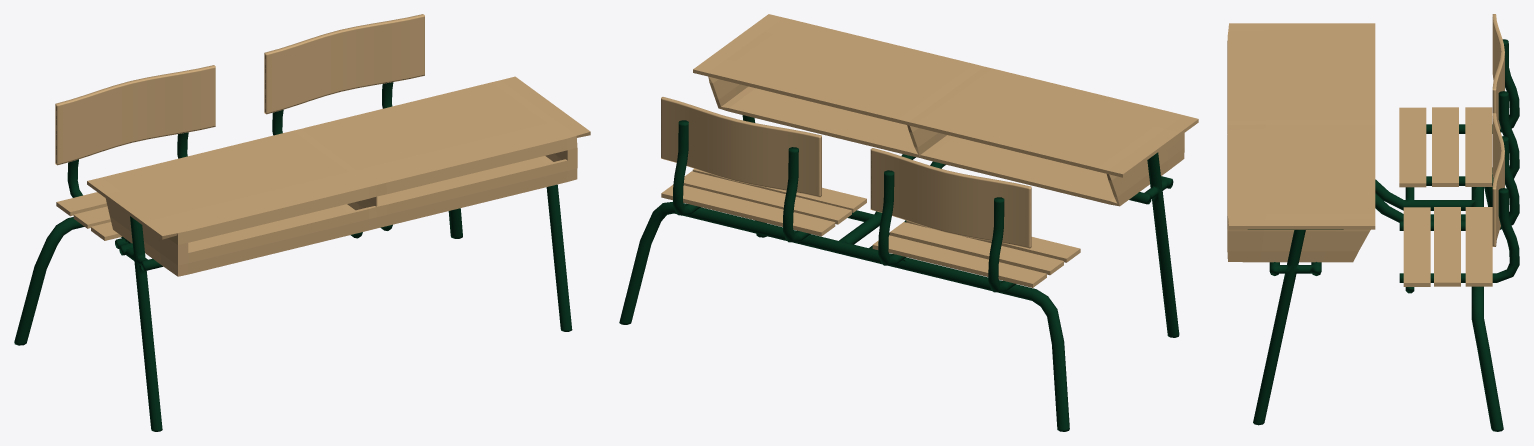
3 renders of one model, left to right at view 1: azimuth 30°, elevation 25°; view 2: azimuth 150°, elevation 25°; view 3: azimuth 270°, elevation 25°, orthographic. The views are drawn at different scales.
Visible parts, largest first — view 1: Desk, Headrest, SteelFrame, Seat; view 2: Desk, Headrest, SteelFrame, Seat; view 3: Desk, Seat, SteelFrame, Headrest.
Boxes of the visible parts, x1,y1,x2,y2 form: Desk: (87, 76, 590, 276); Headrest: (55, 14, 424, 165); SteelFrame: (14, 82, 572, 431); Seat: (56, 192, 121, 240); Desk: (693, 14, 1198, 206); Headrest: (661, 97, 1031, 248); SteelFrame: (619, 115, 1179, 431); Seat: (661, 168, 1080, 287); Desk: (1227, 23, 1375, 262); Seat: (1399, 107, 1492, 286); SteelFrame: (1248, 39, 1519, 431); Headrest: (1492, 14, 1504, 246).
Size of the model in its own units: 2 by 0.9906 by 1.17.
